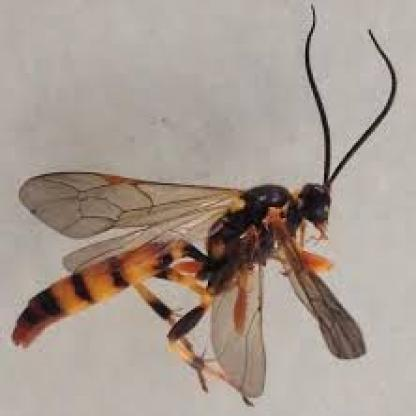sawfly: (12, 0, 403, 407)
